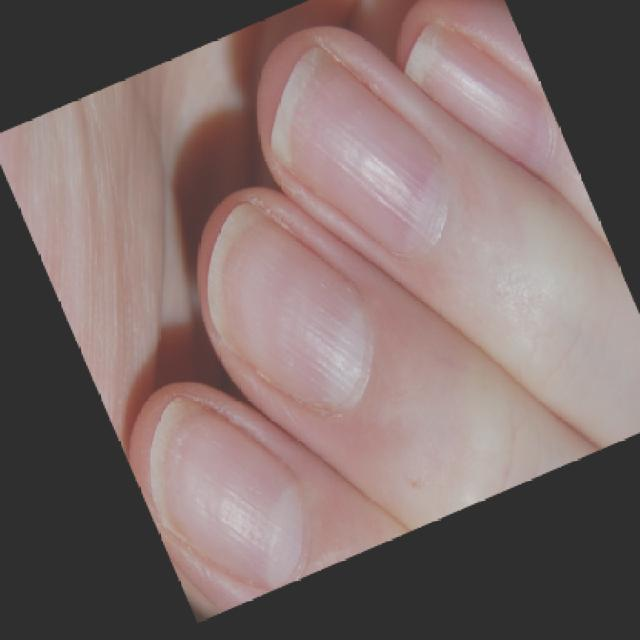Nail: (271, 45, 449, 254), (208, 204, 365, 409), (150, 396, 302, 581), (405, 26, 555, 162)
